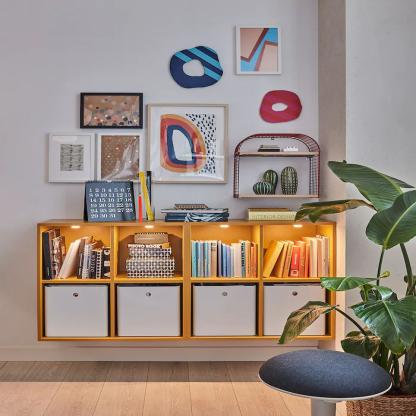lamp: (36, 217, 338, 341)
